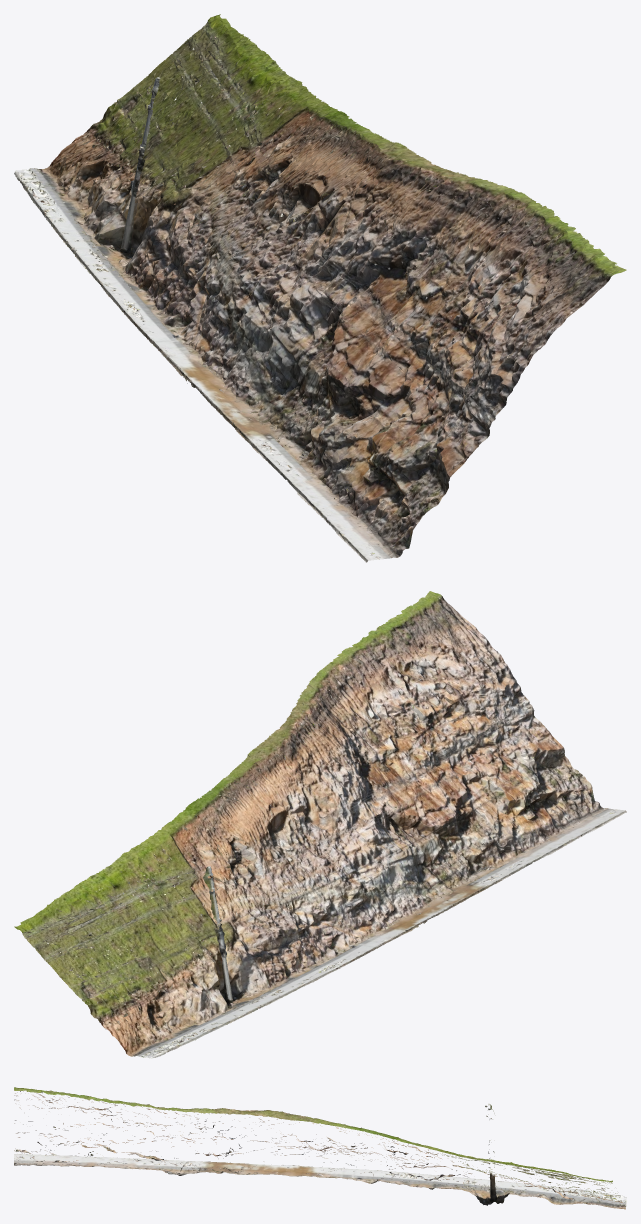
3 views of the same model, one above another, from view 1: azimuth 30°, elevation 25°; view 2: azimuth 150°, elevation 25°; view 3: azimuth 270°, elevation 25° (orthographic). The views are drawn at different scales.
Bounding box in the file's own units: 22.44 × 15.25 × 57.25.
1 material, 1 textured.
